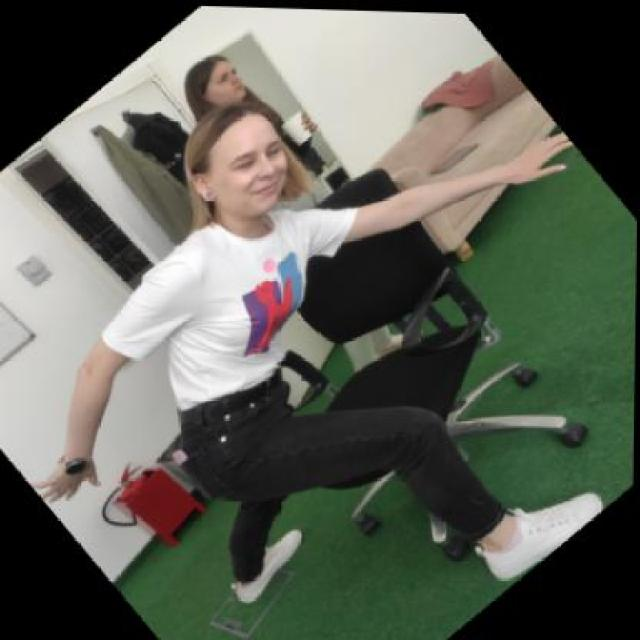chair: (167, 136, 622, 609)
